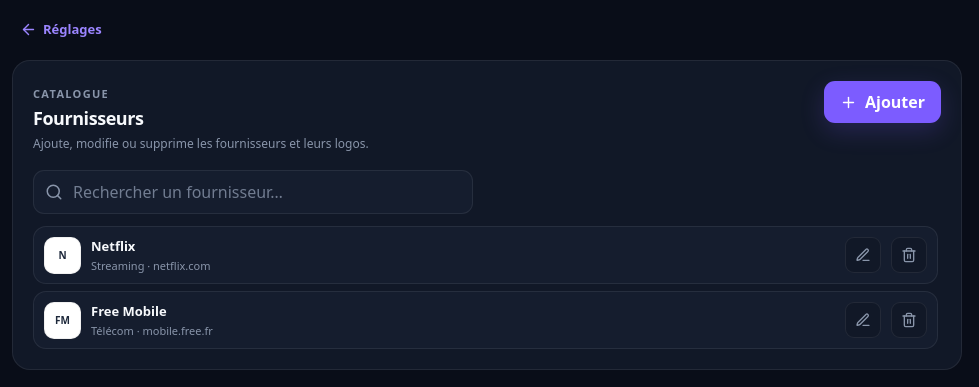
ProvidersView › filtre par nom ou catégorie
Type "télécom" into the field with placeholder "Rechercher un fournisseur…" at (253, 192), box 33,170 -> 473,214
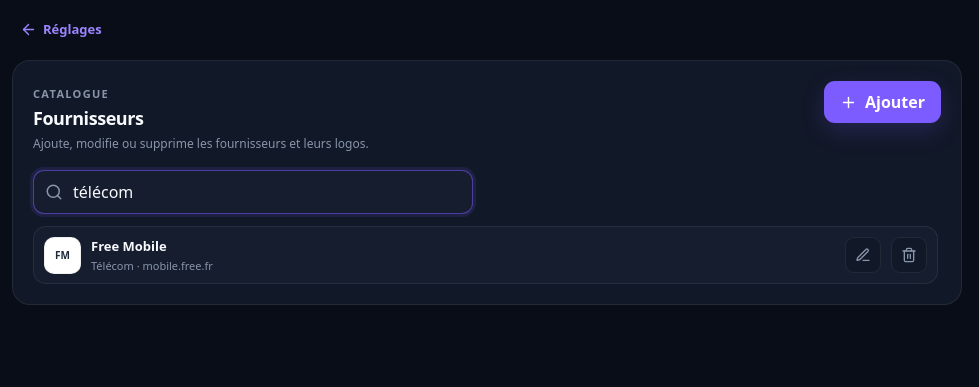
Expected: the text "Free Mobile" is shown, 91,237 -> 167,255
Expected: the text "Netflix" is gone
Replace the text in the field with placeholder "Rechercher un fournisseur…" with "zzz" at (253, 192), box 33,170 -> 473,214
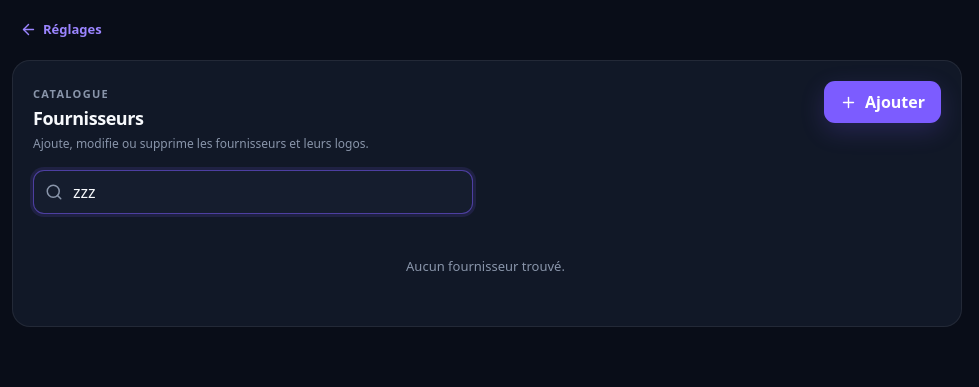
Expected: the text "Aucun fournisseur trouvé." is shown, 406,257 -> 565,275
